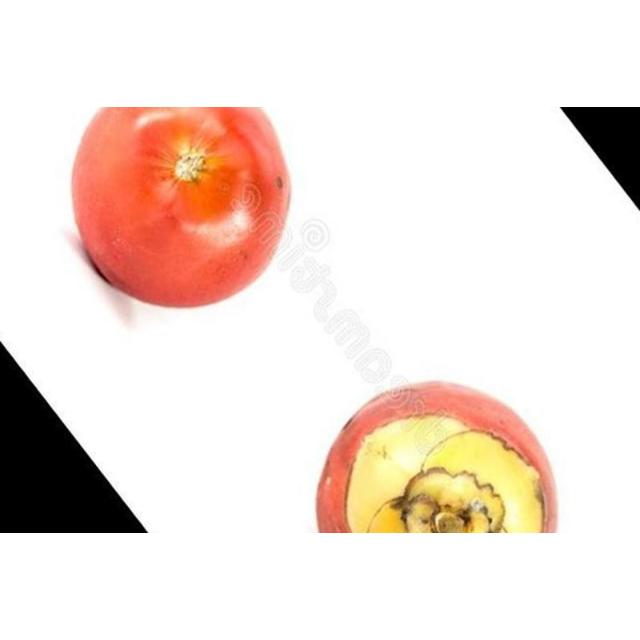good: (70, 107, 291, 310), (315, 381, 560, 533)
